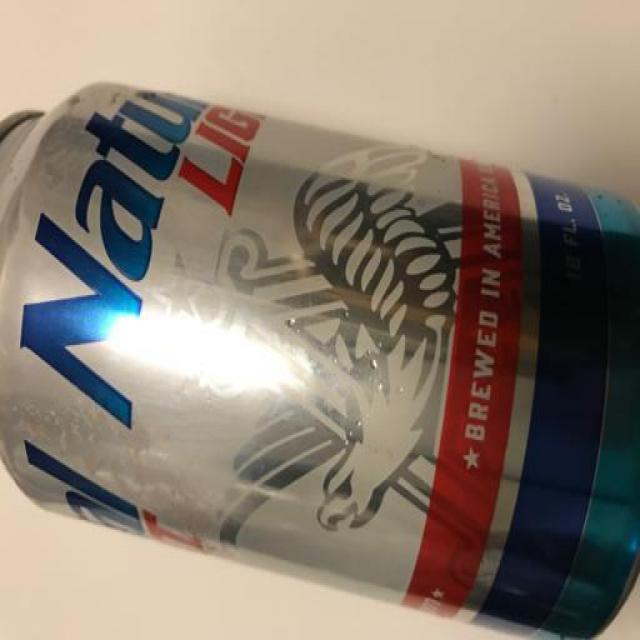metel: (1, 74, 640, 640)
